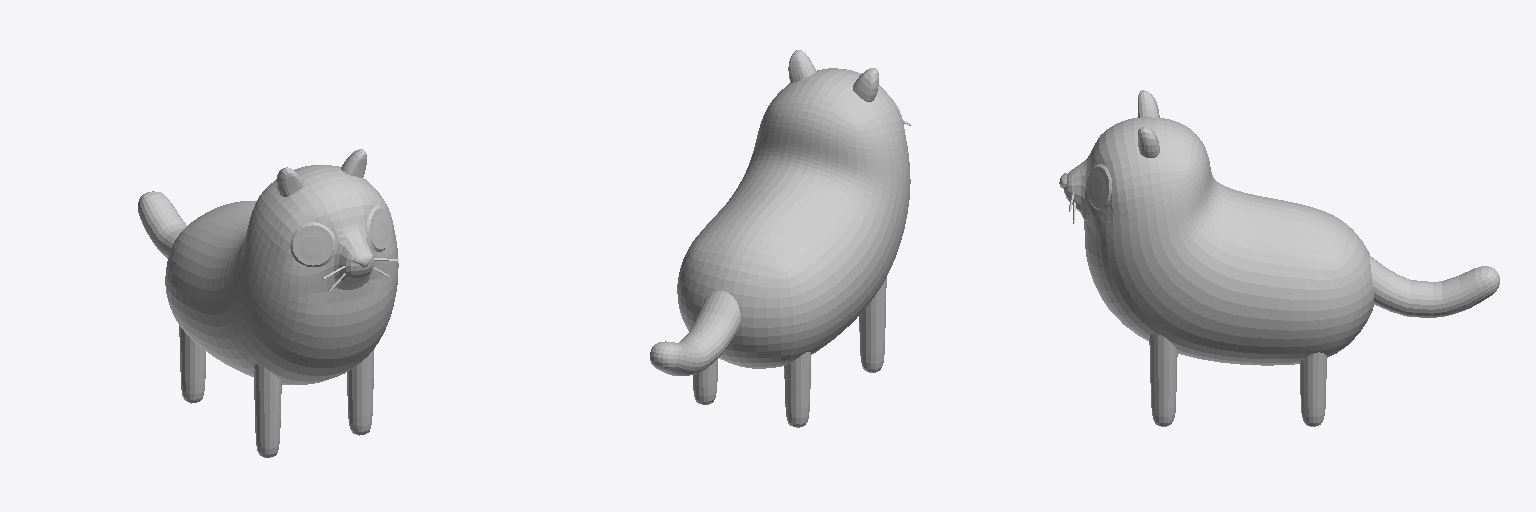
The model's file is Cat_LOD0.obj.
3 views of the same model, side by side, from view 1: azimuth 30°, elevation 25°; view 2: azimuth 150°, elevation 25°; view 3: azimuth 270°, elevation 25° (orthographic).
Parts seen in each view (by area): view 1: Mesh_Cat_LOD0; view 2: Mesh_Cat_LOD0; view 3: Mesh_Cat_LOD0.
Part boxes in pixels (left/top/right/bottom): Mesh_Cat_LOD0: left=138, top=149, right=398, bottom=457; Mesh_Cat_LOD0: left=650, top=50, right=910, bottom=427; Mesh_Cat_LOD0: left=1059, top=90, right=1499, bottom=426.
Bounding box in the file's own units: 0.4671 × 0.8696 × 1.18.